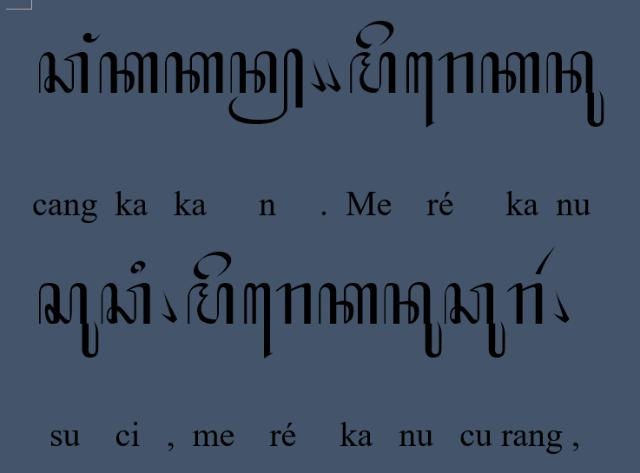-n: (227, 46, 305, 126)
_r1: (534, 246, 556, 276)
c: (37, 50, 89, 94), (100, 282, 152, 325)
cu: (444, 282, 506, 358)
e: (193, 250, 233, 280), (356, 21, 394, 50)
e1: (405, 49, 435, 128), (244, 282, 272, 360)
i: (130, 260, 146, 276)
k: (482, 50, 542, 96), (99, 51, 160, 95), (318, 281, 378, 325), (164, 51, 223, 95)
kom: (324, 56, 342, 92), (159, 288, 177, 324), (309, 58, 327, 92), (551, 289, 569, 323)
m: (348, 50, 398, 94), (187, 282, 235, 326)
ng: (82, 31, 102, 44)
nu: (383, 280, 443, 360), (546, 50, 604, 128)
r: (438, 49, 476, 95), (276, 282, 312, 326), (507, 282, 543, 326)
su: (39, 283, 100, 359)
